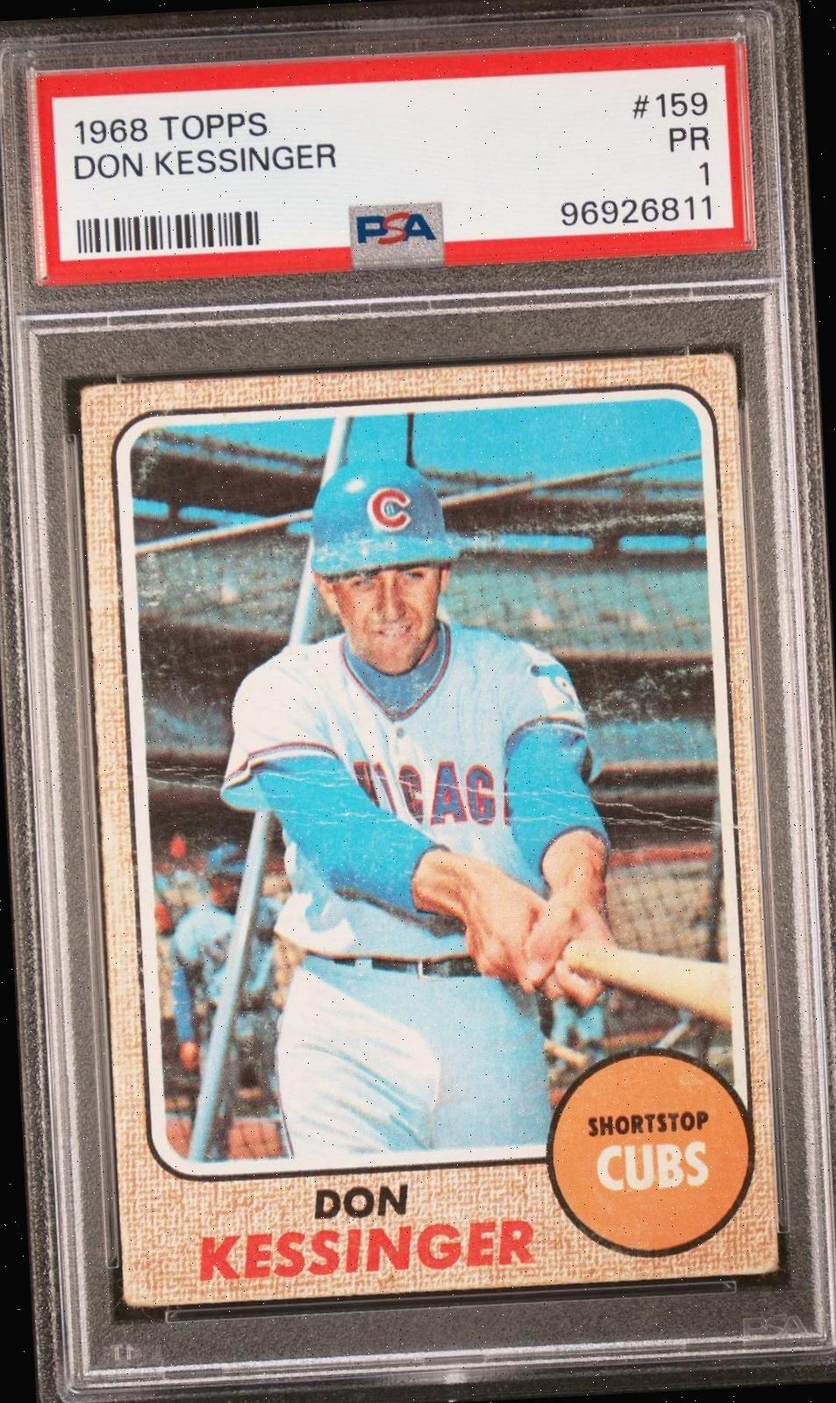card-2UtV: (78, 350, 781, 1309)
